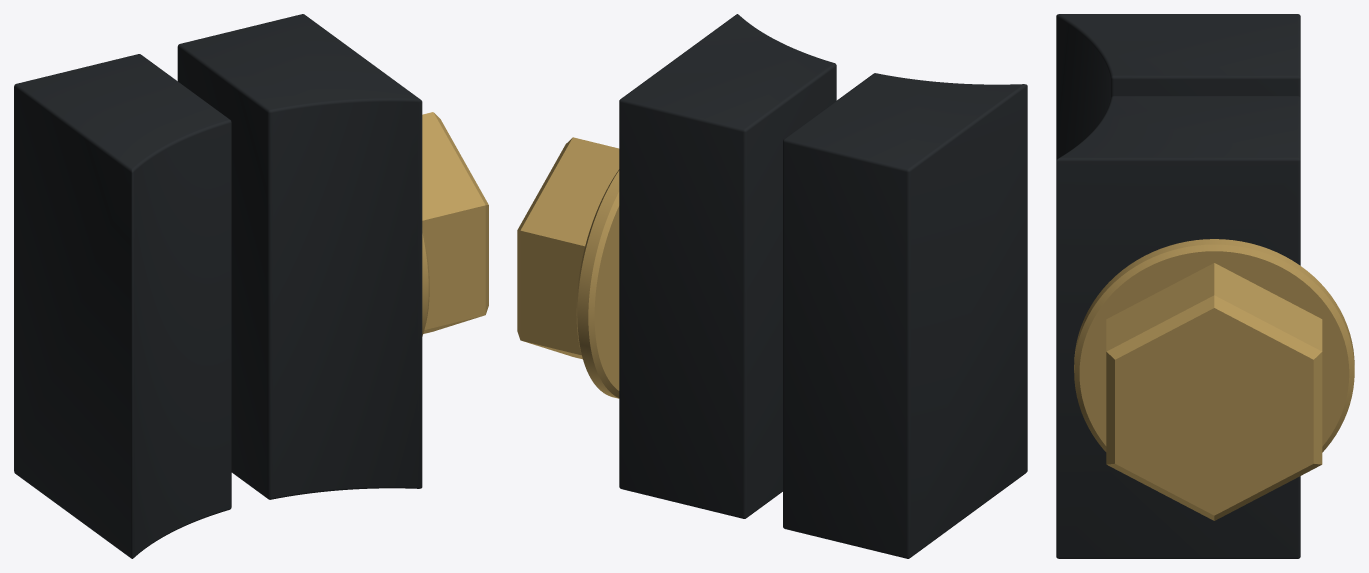
Rendered from child-candidate.glb.
3 views of the same model, side by side, from view 1: azimuth 30°, elevation 25°; view 2: azimuth 150°, elevation 25°; view 3: azimuth 270°, elevation 25° (orthographic). The views are drawn at different scales.
Parts seen in each view (by area): view 1: EAR_NEGATIVE_X, EAR_POSITIVE_X, VISIBLE_HEX_HEAD_AND_ROUND_SEAT_ONLY; view 2: EAR_NEGATIVE_X, EAR_POSITIVE_X, VISIBLE_HEX_HEAD_AND_ROUND_SEAT_ONLY; view 3: EAR_POSITIVE_X, VISIBLE_HEX_HEAD_AND_ROUND_SEAT_ONLY, EAR_NEGATIVE_X.
Boxes of the visible parts, box(x1,y1,x2,y2) form: EAR_NEGATIVE_X: box(14, 54, 231, 558); EAR_POSITIVE_X: box(177, 14, 422, 499); VISIBLE_HEX_HEAD_AND_ROUND_SEAT_ONLY: box(422, 112, 488, 336); EAR_NEGATIVE_X: box(783, 73, 1027, 558); EAR_POSITIVE_X: box(619, 14, 836, 518); VISIBLE_HEX_HEAD_AND_ROUND_SEAT_ONLY: box(517, 137, 619, 398); EAR_POSITIVE_X: box(1056, 96, 1300, 558); VISIBLE_HEX_HEAD_AND_ROUND_SEAT_ONLY: box(1074, 239, 1354, 520); EAR_NEGATIVE_X: box(1056, 14, 1300, 160).
Size of the model in its own units: 0.0212 by 0.0205 by 0.0138.
